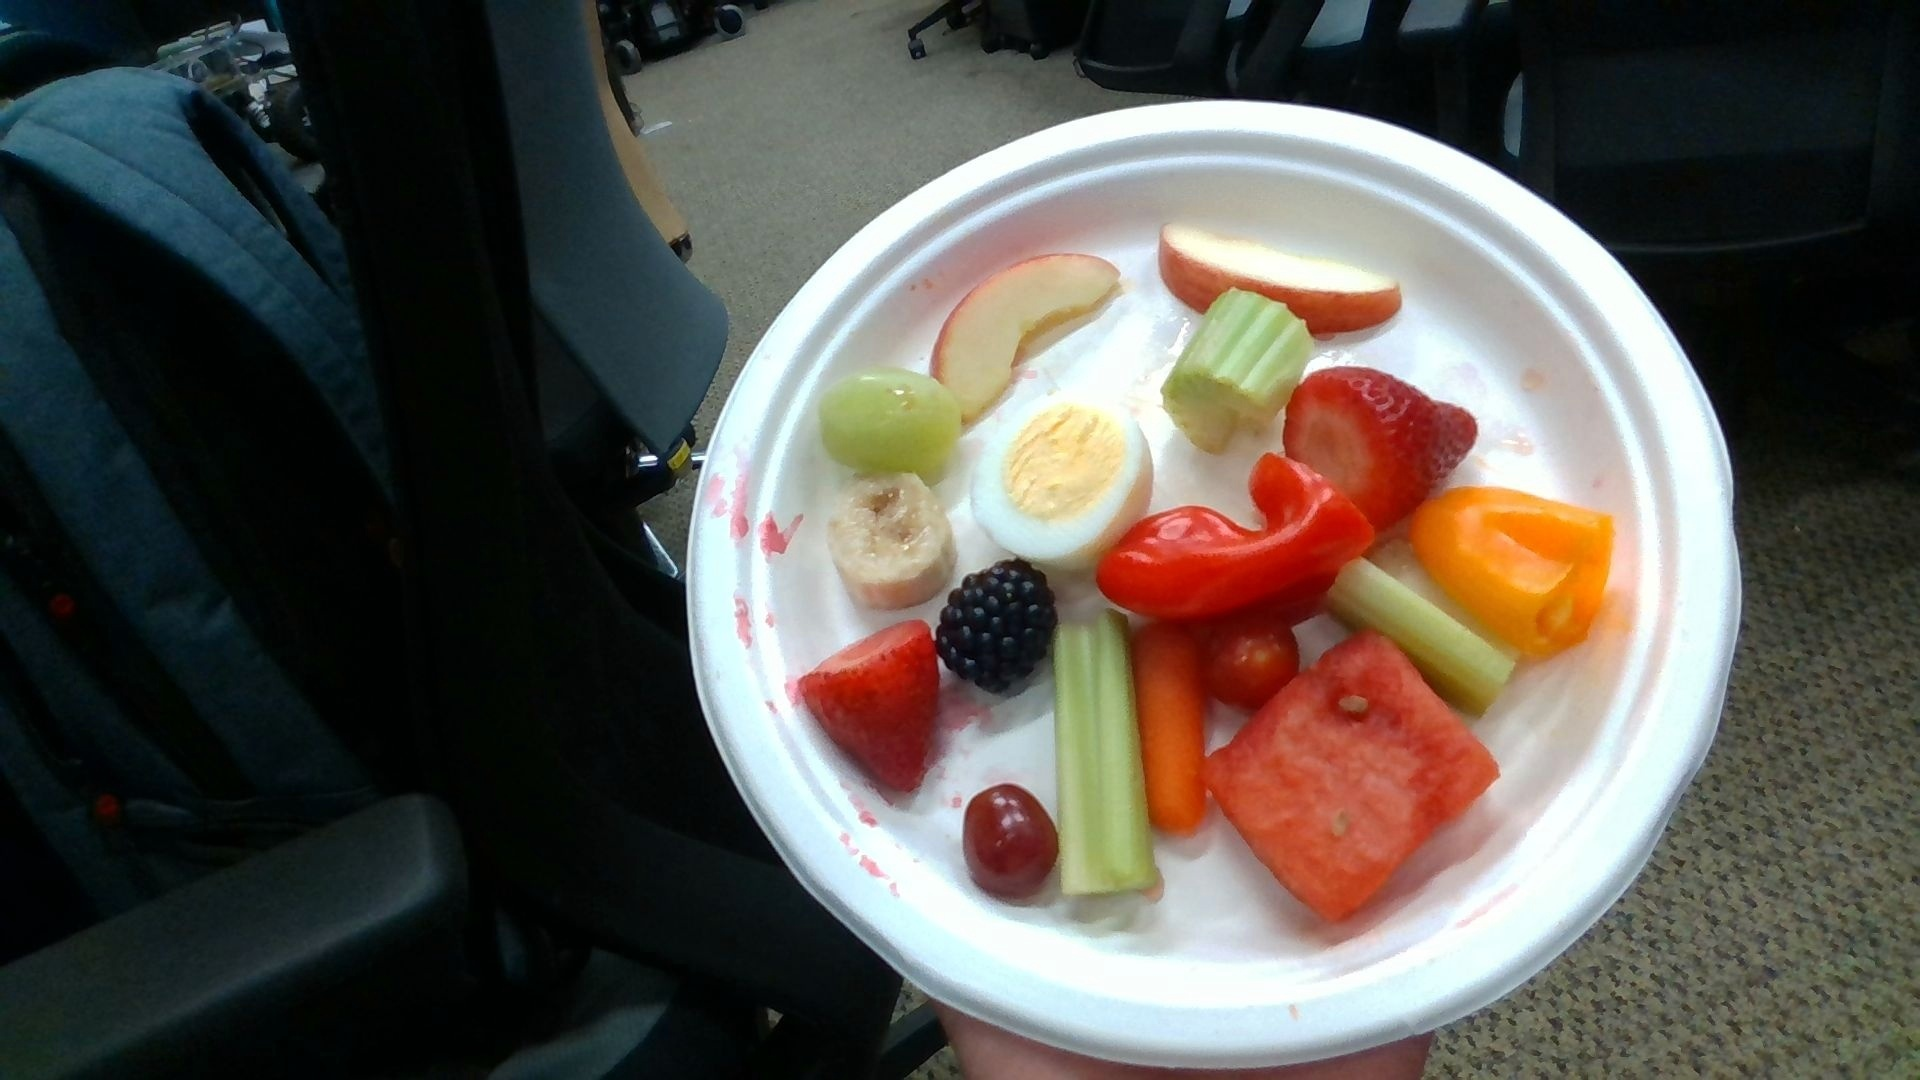apple: (932, 253, 1114, 415), (1160, 216, 1402, 328)
banana: (829, 475, 952, 605)
bell_pepper: (1098, 455, 1371, 616), (1407, 485, 1610, 650)
blackberry: (939, 560, 1054, 694)
carrot: (1130, 626, 1209, 833)
celery: (1327, 555, 1515, 713), (1052, 616, 1153, 891), (1164, 291, 1312, 450)
cherry_tomato: (1199, 618, 1300, 713)
egg: (975, 393, 1154, 560)
grape_green: (819, 368, 963, 476)
grape_purple: (963, 785, 1058, 901)
melon: (1203, 632, 1494, 910)
strawberry: (1284, 368, 1477, 535), (799, 618, 935, 785)
